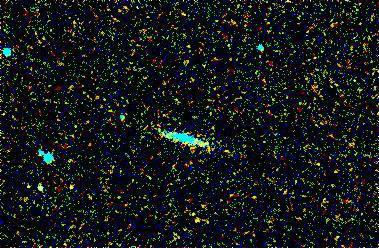star: (53, 169, 83, 199)
